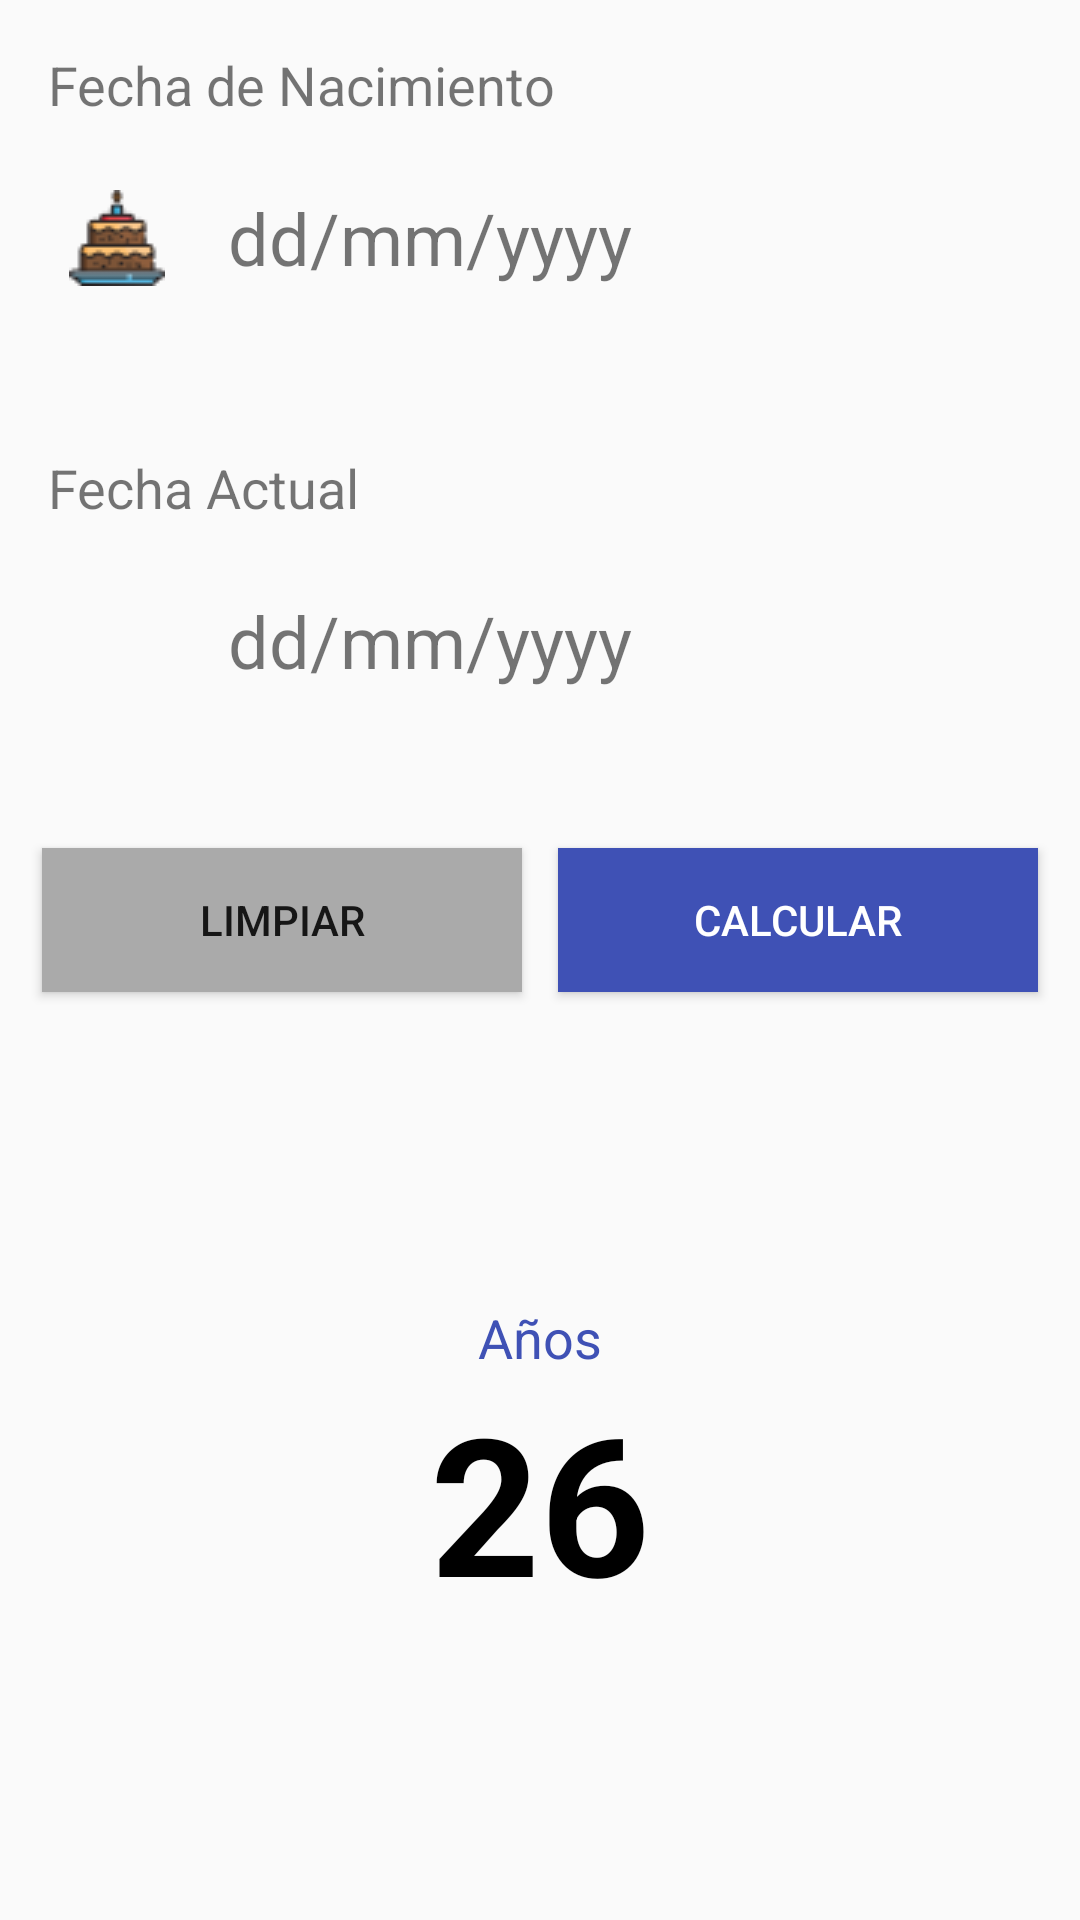

Named icons in this screenshot (1080w x 1920h) and their centers, [x,y]:
cake: [117,238]
